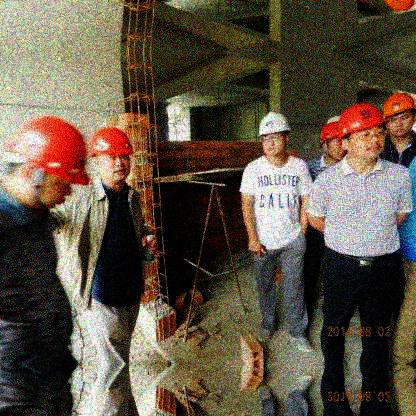helmet: (5, 117, 89, 214), (339, 102, 386, 165), (89, 126, 133, 189), (257, 112, 290, 163), (384, 92, 416, 138), (319, 123, 345, 161)
